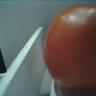tomato: (42, 3, 96, 96)
